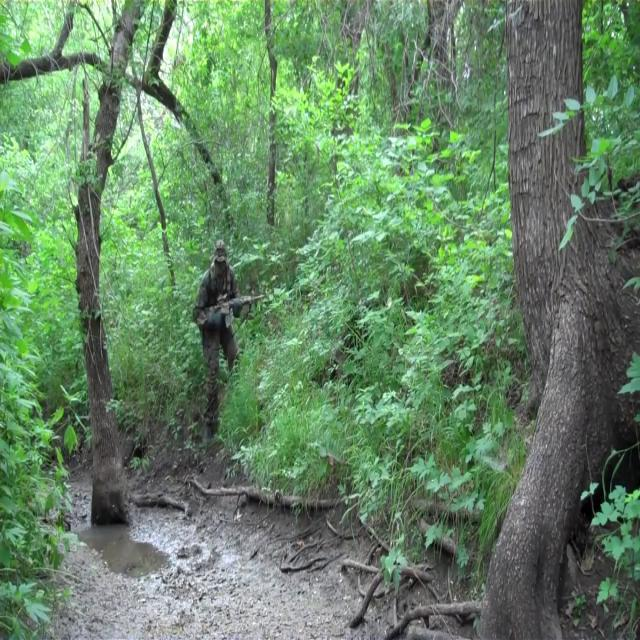MIL_Pax: (192, 242, 259, 437)
